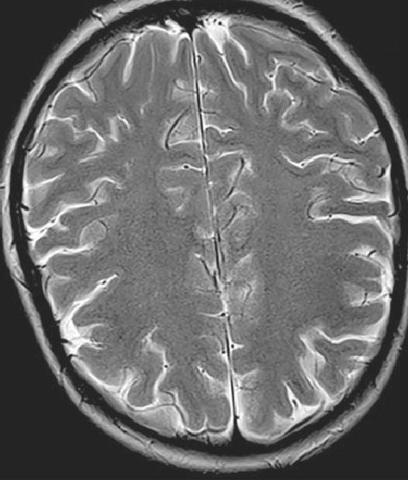Normal_Brain: (1, 1, 408, 480)
